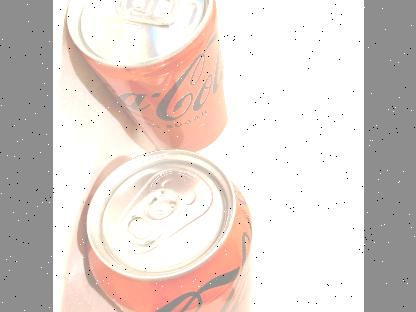Can: (83, 148, 252, 312), (66, 0, 230, 149)
